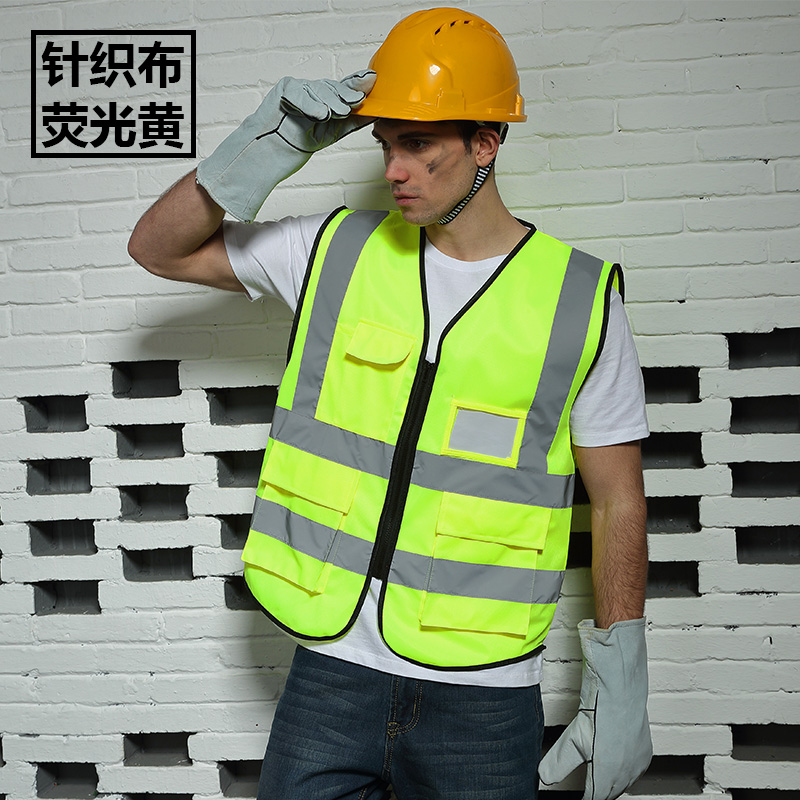person: (122, 7, 654, 800)
reflective_vest: (234, 203, 629, 667)
safety_helmet: (350, 6, 533, 229)
